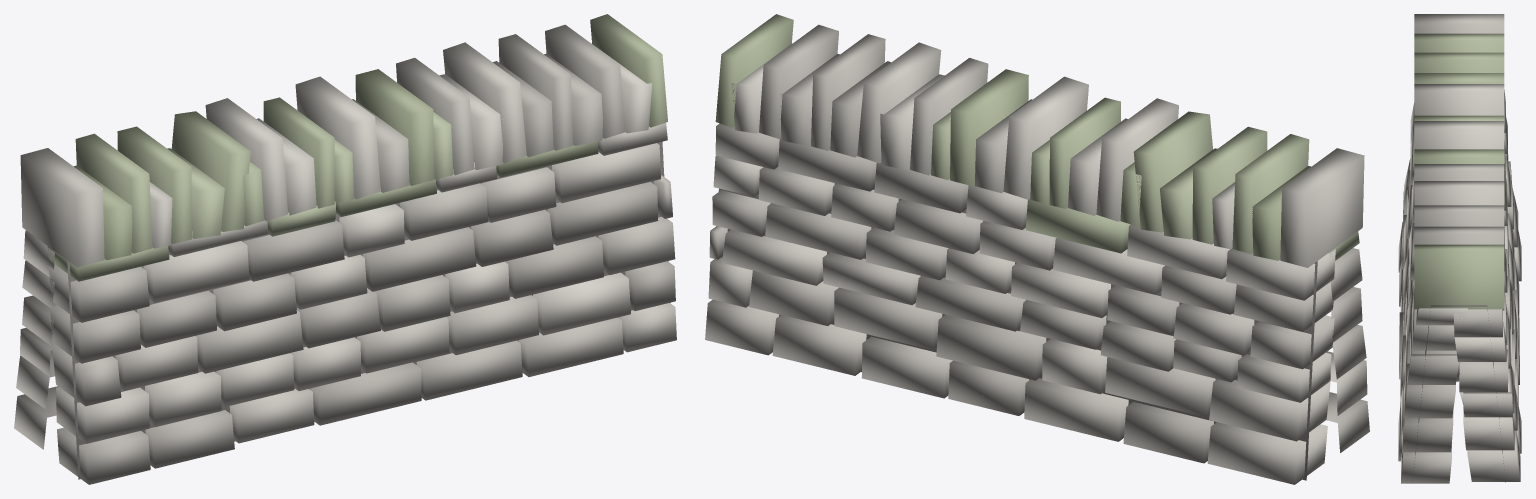
Rendered from dry_stone_wall.glb.
3 renders of one model, left to right at view 1: azimuth 30°, elevation 25°; view 2: azimuth 150°, elevation 25°; view 3: azimuth 270°, elevation 25°, orthographic. The views are drawn at different scales.
Parts seen in each view (by area): view 1: isl_dry_stone_wall; view 2: isl_dry_stone_wall; view 3: isl_dry_stone_wall.
Part boxes in pixels (left/top/right/bottom): isl_dry_stone_wall: left=14, top=14, right=676, bottom=484; isl_dry_stone_wall: left=705, top=14, right=1369, bottom=484; isl_dry_stone_wall: left=1398, top=14, right=1521, bottom=483.
Size of the model in its own units: 3.01 by 1.4 by 0.6574.
